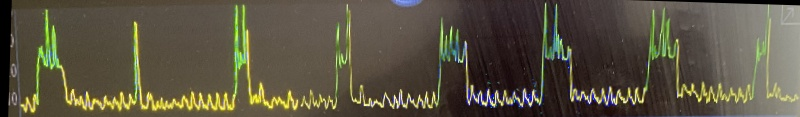hydrop_pressure: (12, 0, 790, 117)
